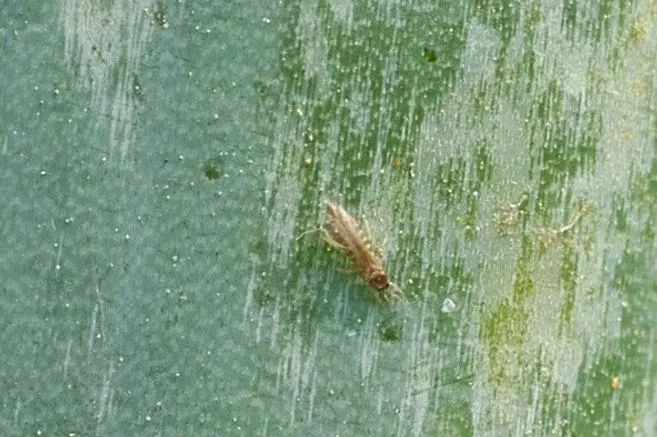thrips: (318, 202, 391, 302)
